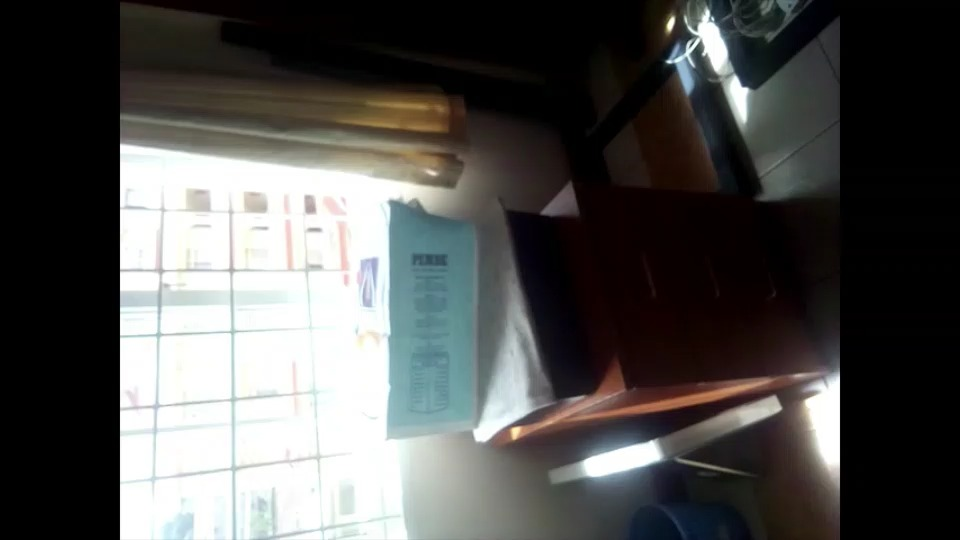wheat_flour_blue_label: (473, 434, 781, 540), (350, 207, 473, 434)
